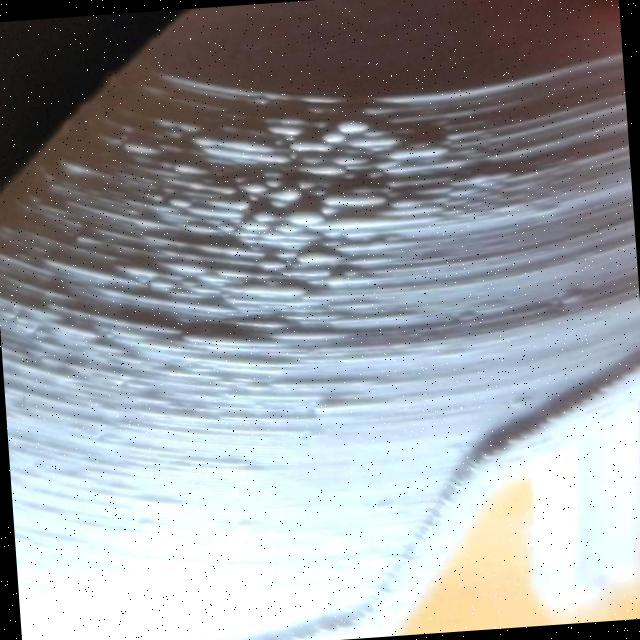blobs: (283, 202, 322, 232), (315, 126, 352, 156), (270, 181, 304, 209), (334, 115, 372, 140), (248, 204, 284, 229), (255, 249, 288, 276), (289, 134, 320, 162), (294, 242, 326, 268), (237, 174, 266, 202), (234, 214, 266, 236), (165, 193, 190, 216)
